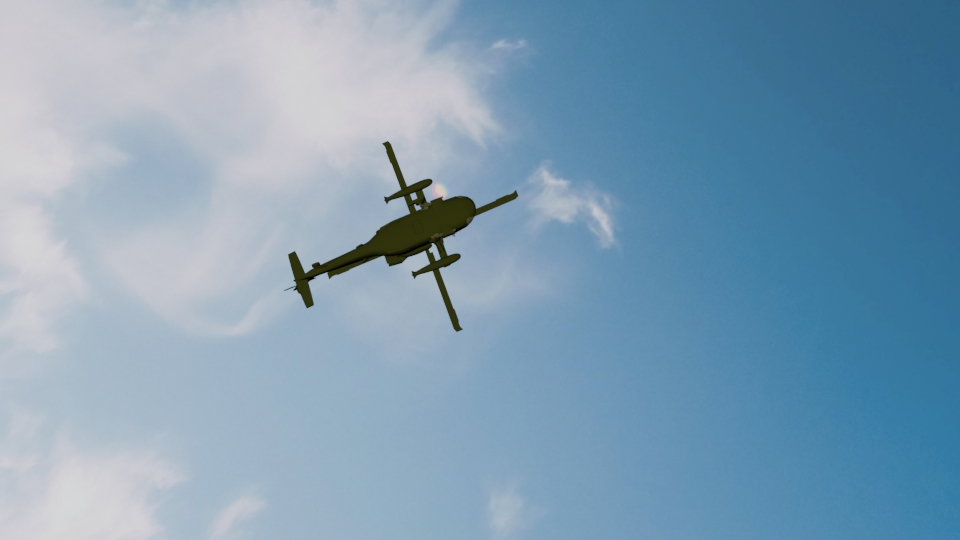heli: (284, 136, 519, 331)
